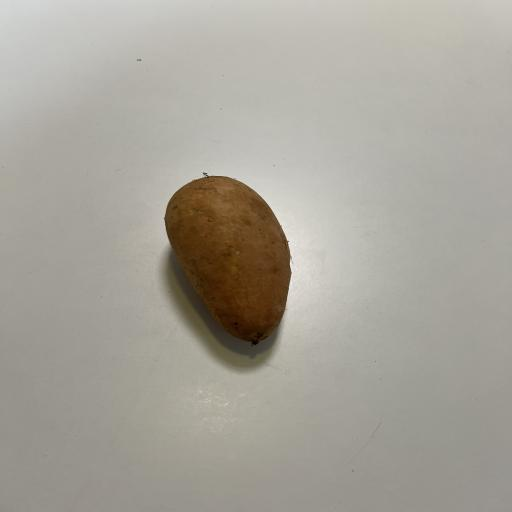sweet_potato: (157, 169, 302, 348)
